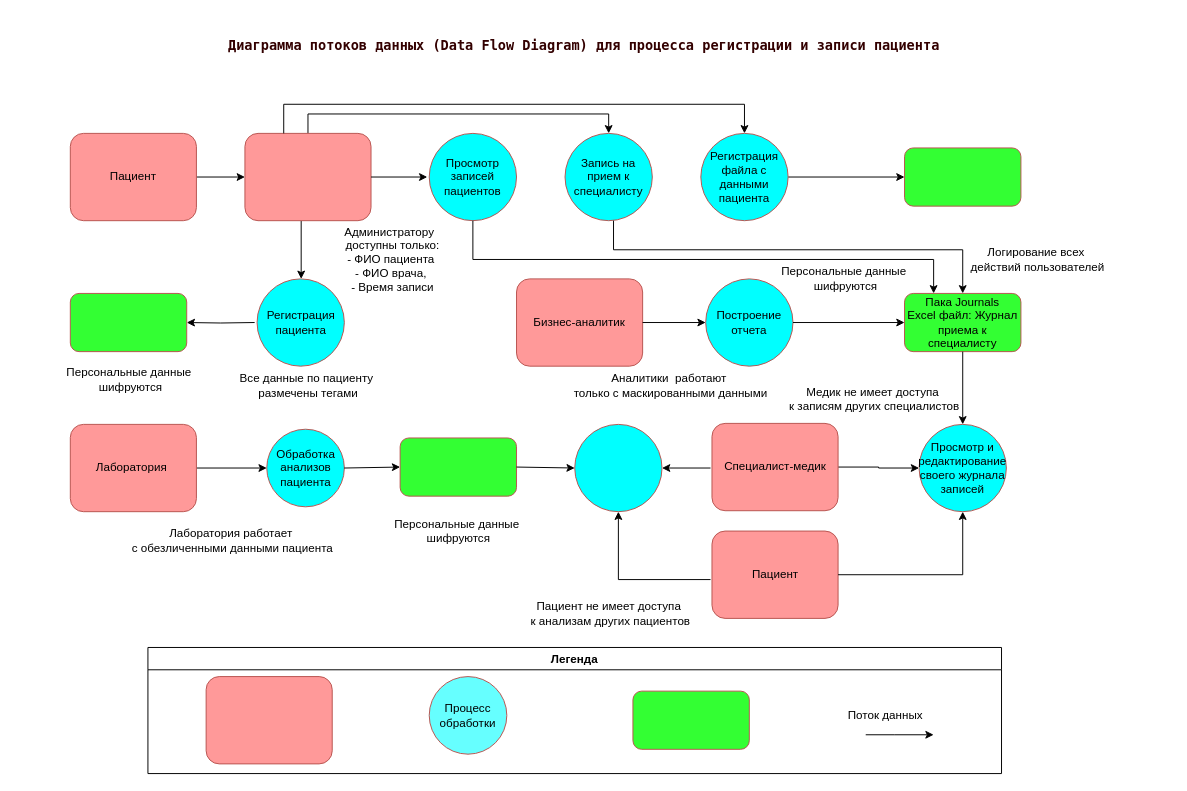
This 1187x791 diagram has some shape labels left out. The shapes that lost their labels are listed below. From the top down, each one's centre as x and y in pixels, then its label:
At pixel 307 176: "Администраторы на ресепшене".
At pixel 962 176: "Отдельная папка для данных пациента с файлами в разных форматах".
At pixel 128 322: "Excel файл Patients: файл со списком пациентов".
At pixel 458 466: "Excel файл с реестром анализов".
At pixel 618 467: "Просмотр результатов анализов".
At pixel 268 720: "Внешние участники".
At pixel 690 719: "Хранение данных".
